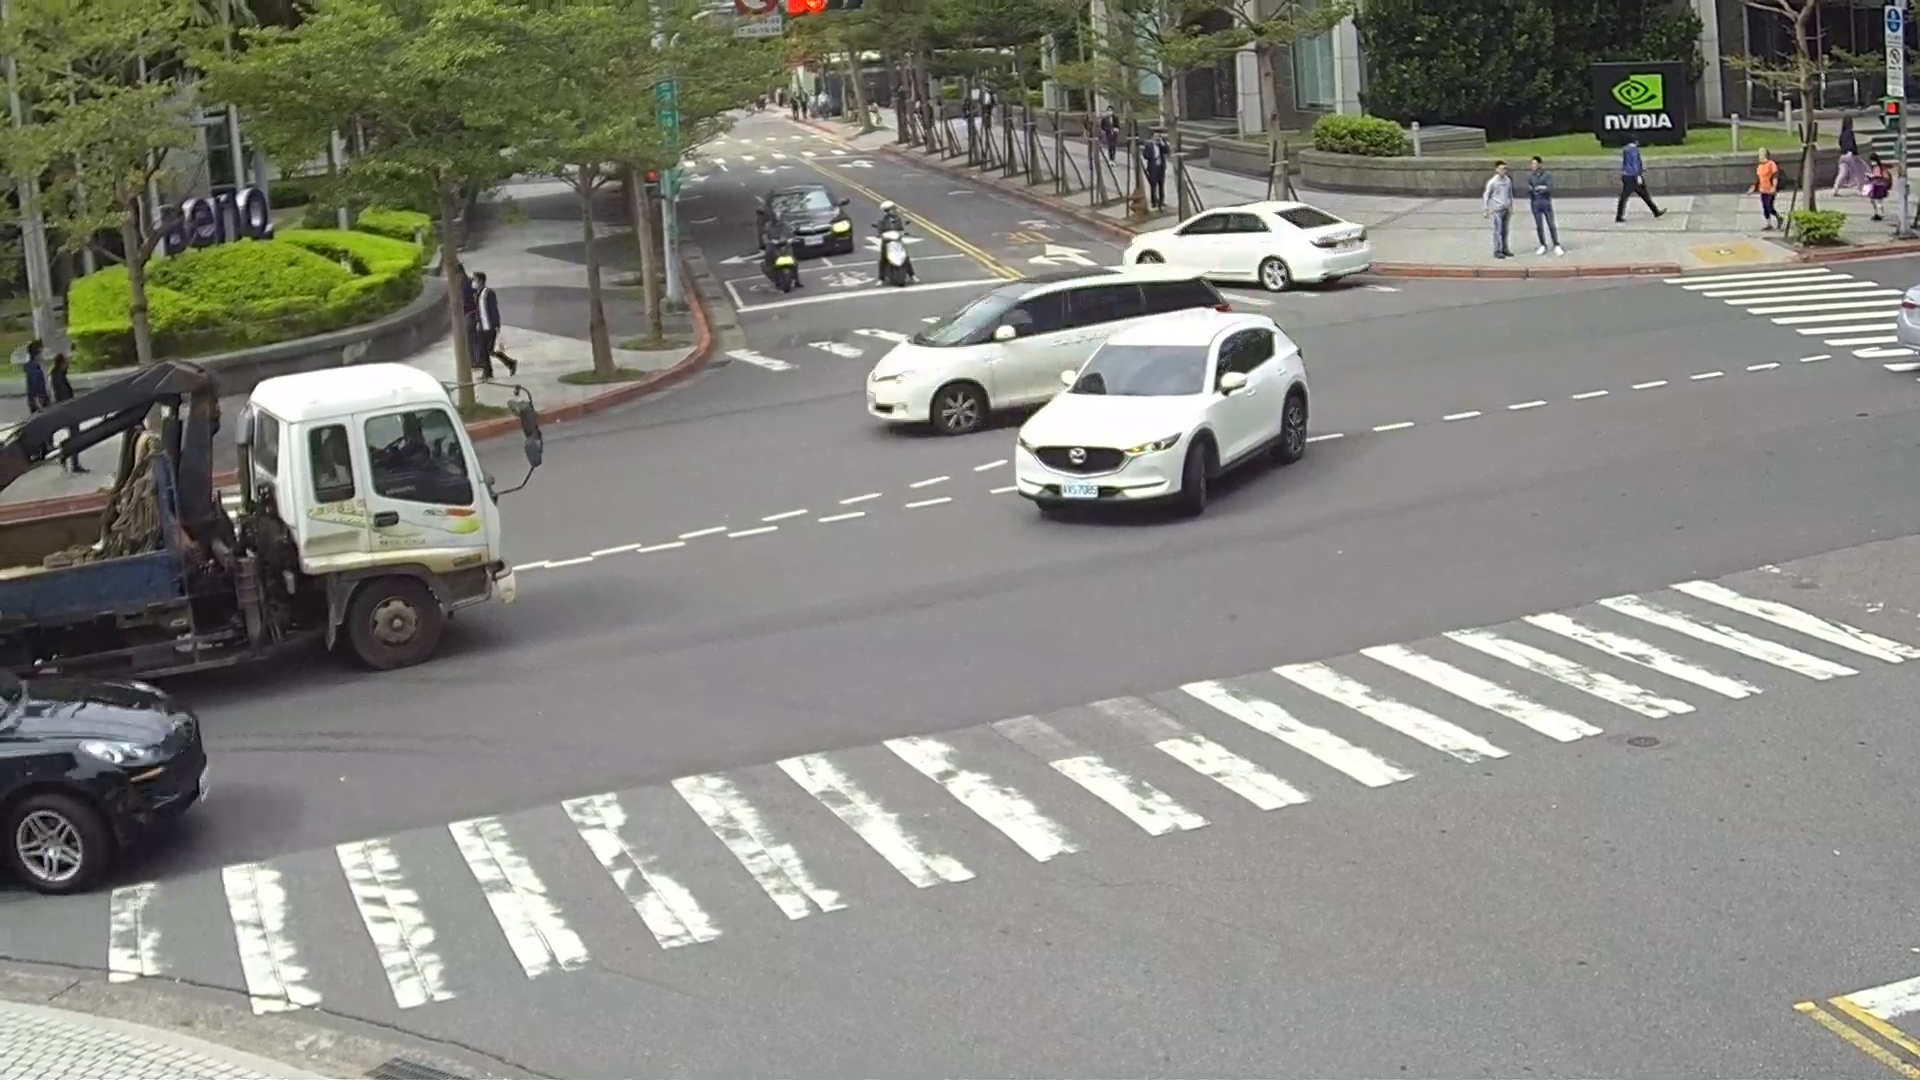bike: (874, 232, 918, 285), (761, 239, 802, 293)
pedestrian: (470, 273, 514, 374), (1613, 136, 1664, 222), (1525, 152, 1563, 255), (1481, 159, 1515, 257), (15, 337, 50, 413), (1752, 149, 1781, 230), (1834, 111, 1860, 191), (1140, 136, 1165, 211), (1863, 158, 1891, 222), (767, 205, 792, 265), (47, 353, 72, 405), (874, 200, 903, 239), (1098, 110, 1117, 163)
vehicle: (1, 361, 558, 660), (862, 264, 1231, 433), (1016, 309, 1310, 520), (1, 671, 208, 893), (1117, 200, 1376, 289), (754, 182, 855, 262), (1891, 271, 1920, 365)
